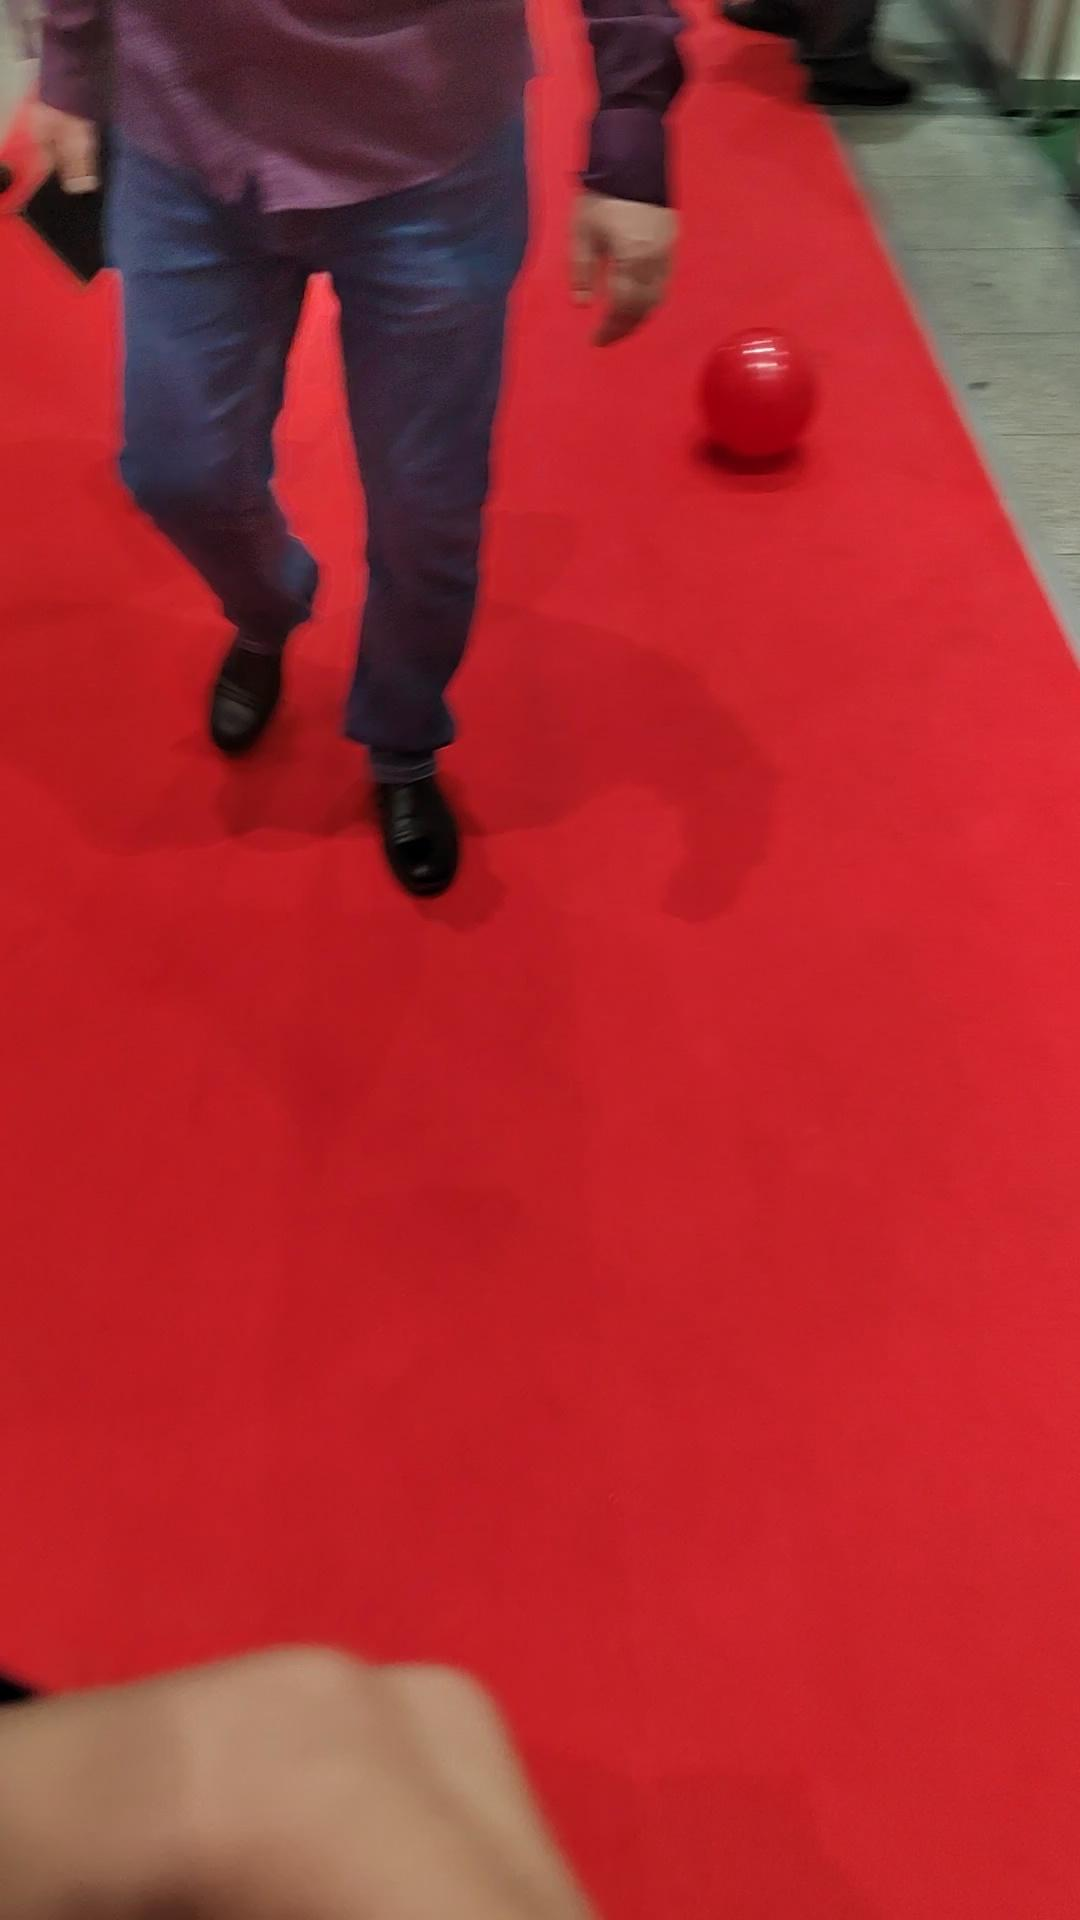red: (699, 327, 818, 459)
